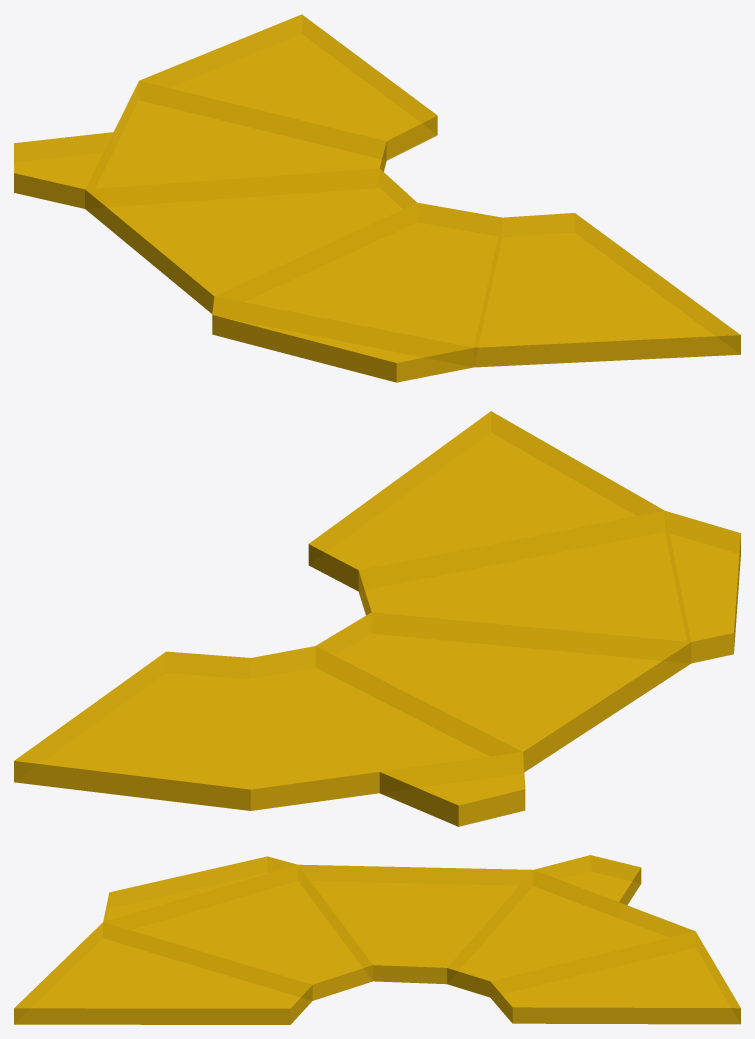
The model's file is SM_Bld_Dock_Round_03_Collision.fbx.
3 renders of one model, top to bottom at view 1: azimuth 30°, elevation 25°; view 2: azimuth 150°, elevation 25°; view 3: azimuth 270°, elevation 25°, orthographic. The views are drawn at different scales.
Parts seen in each view (by area): view 1: SM_Bld_Dock_Round_03_Collision; view 2: SM_Bld_Dock_Round_03_Collision; view 3: SM_Bld_Dock_Round_03_Collision.
Boxes of the visible parts, left/top/right/bottom form: SM_Bld_Dock_Round_03_Collision: left=14, top=14, right=740, bottom=382; SM_Bld_Dock_Round_03_Collision: left=14, top=411, right=740, bottom=826; SM_Bld_Dock_Round_03_Collision: left=14, top=855, right=740, bottom=1024.
Bounding box in the file's own units: 404 × 19.98 × 808.
